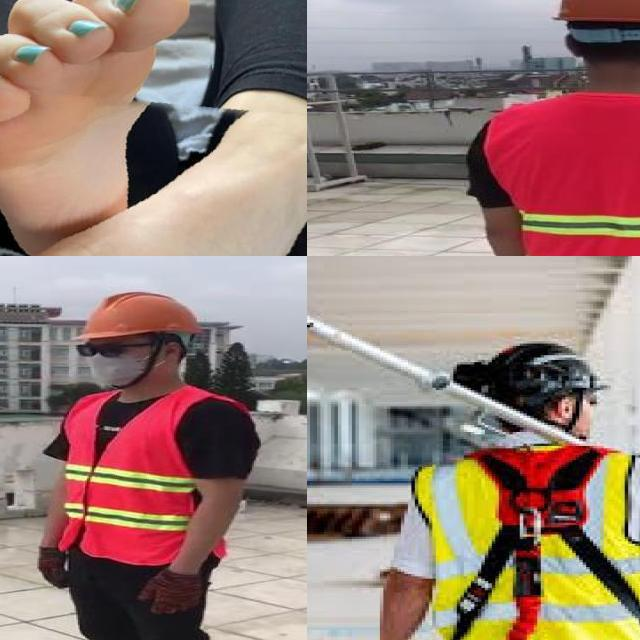Barefoots: (0, 0, 233, 256), (0, 137, 307, 256)
Harness: (451, 446, 640, 640)
face_mask: (74, 336, 149, 386)
glasses: (71, 338, 131, 360)
hand_glove: (133, 573, 208, 613), (37, 545, 71, 592)
head_helmet: (459, 0, 640, 256), (78, 288, 204, 340), (546, 0, 640, 26)
person: (11, 288, 269, 640)
vest: (58, 388, 231, 565), (489, 93, 640, 256)
